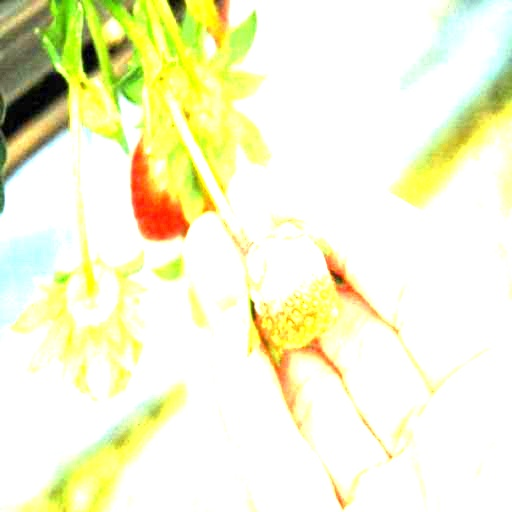Gray Mold: (247, 223, 338, 351)
